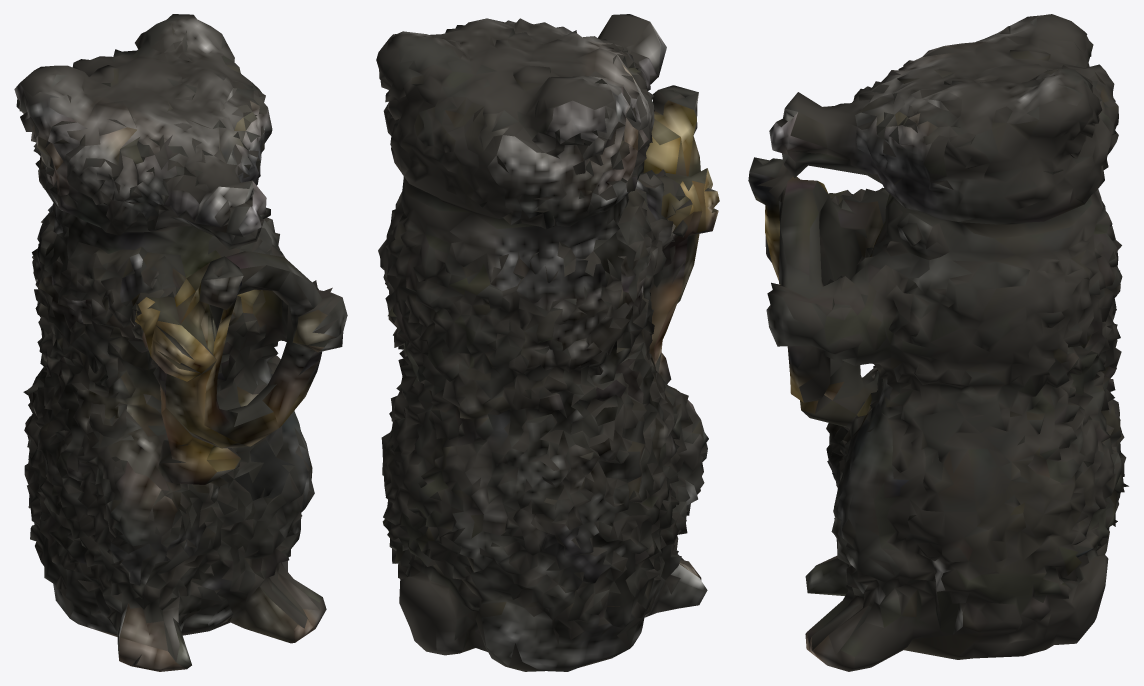
File: bear-jug-horn-20177422ab.glb
3 renders of one model, left to right at view 1: azimuth 30°, elevation 25°; view 2: azimuth 150°, elevation 25°; view 3: azimuth 270°, elevation 25°, orthographic. The views are drawn at different scales.
Parts seen in each view (by area): view 1: Mesh; view 2: Mesh; view 3: Mesh.
Part boxes in pixels (box(x1,y1,x2,y2)): Mesh: box(14, 14, 347, 671); Mesh: box(376, 14, 719, 671); Mesh: box(748, 14, 1128, 671).
Bounding box in the file's own units: 0.0711 × 0.1619 × 0.0968.
1 material, 1 textured.
